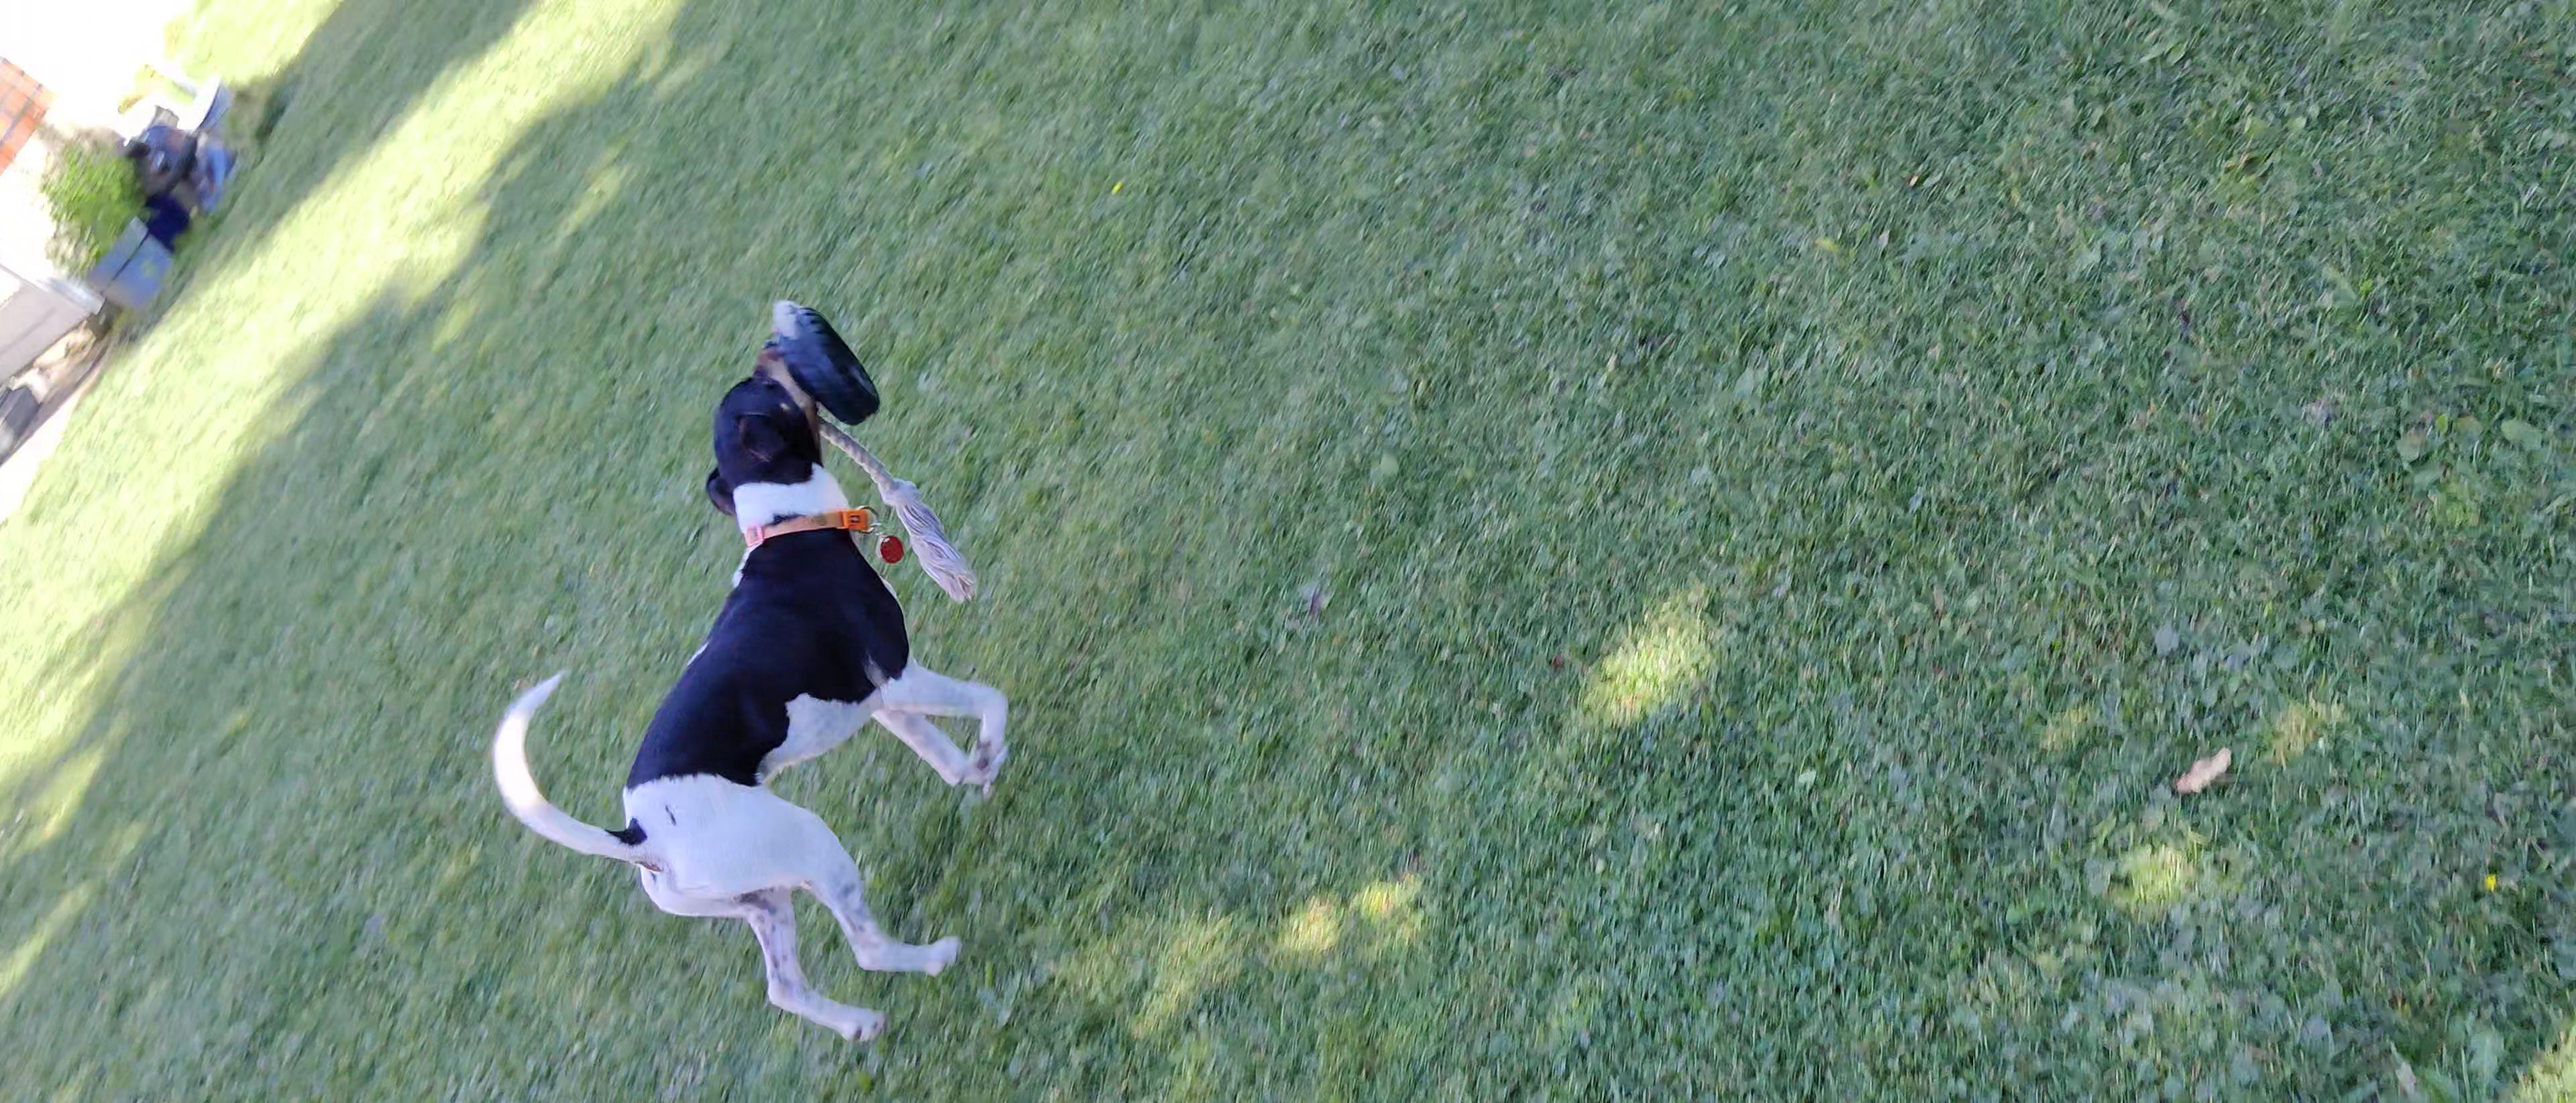Dog: (485, 329, 1017, 1044)
